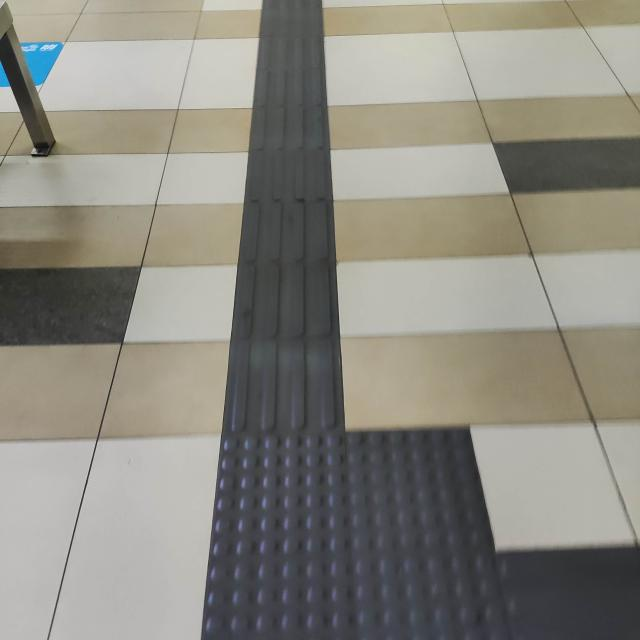lurus: (240, 0, 352, 440)
